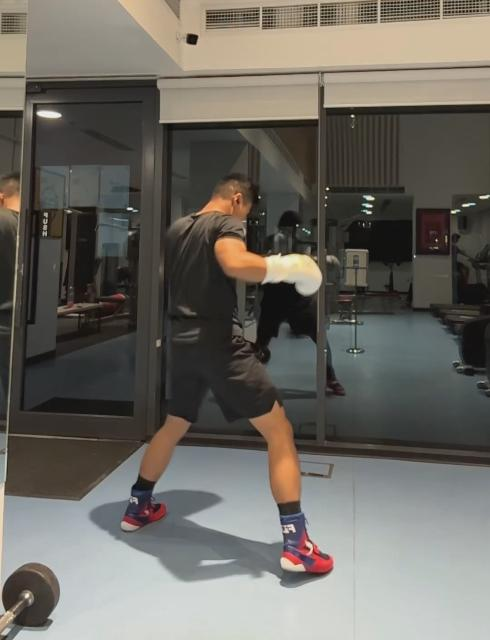punch: (119, 170, 336, 580)
